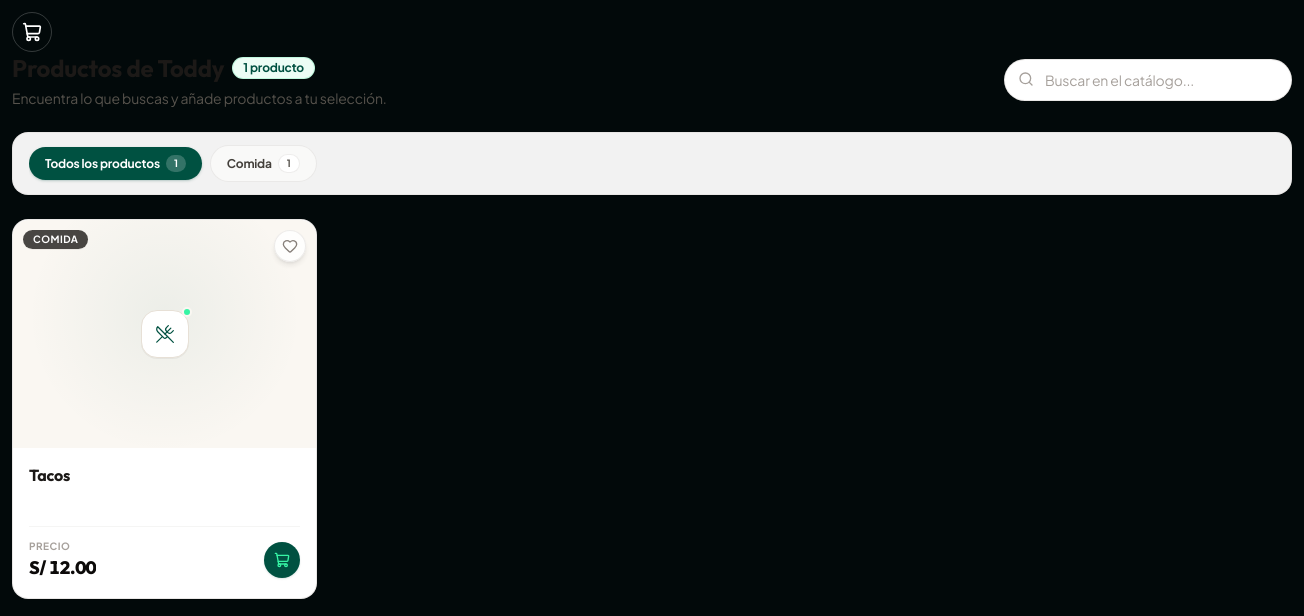
Test case: Storefront navbar cart link & /carrito page › adds a real variant from catalog and updates navbar cart count
Click the button named "Añadir" at (282, 560), box [264,542,300,578]
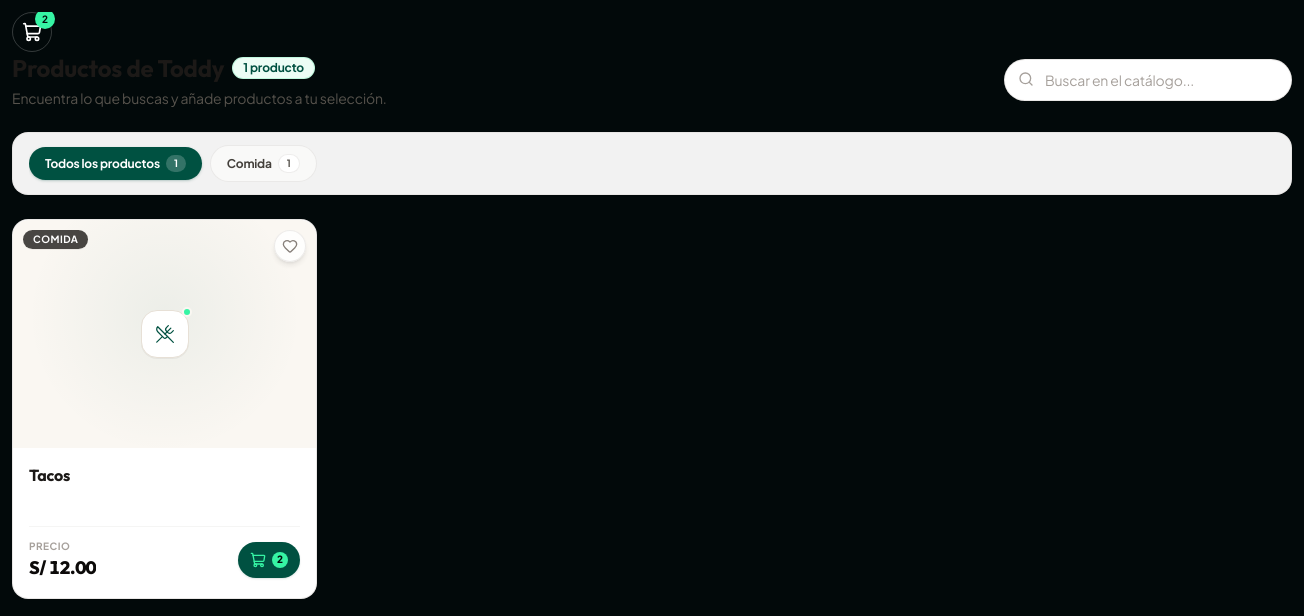
Expected: the link named "Carrito, 2 productos" is shown, [12,12,52,52]
